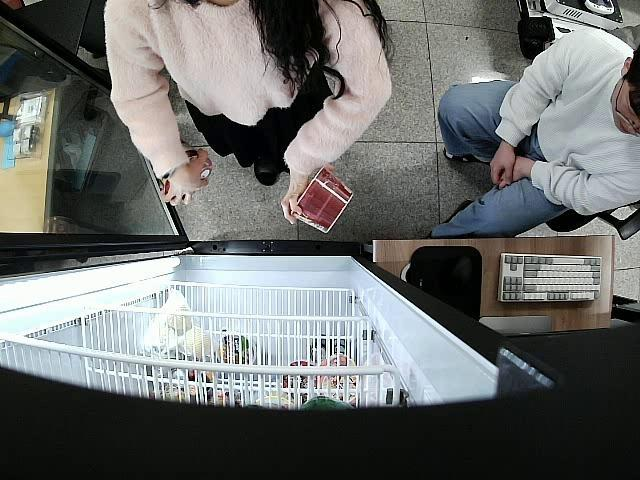05_nuguri_L: (294, 164, 354, 236), (155, 140, 212, 196)
